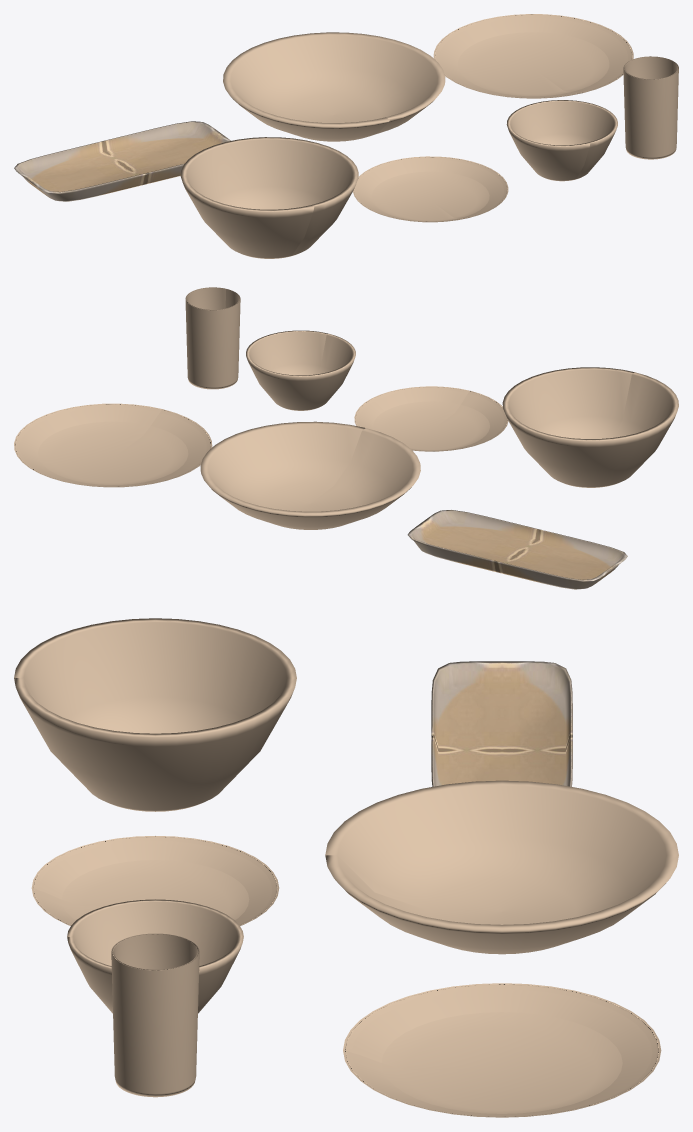
Rendered from COL-03.glb.
3 views of the same model, one above another, from view 1: azimuth 30°, elevation 25°; view 2: azimuth 150°, elevation 25°; view 3: azimuth 270°, elevation 25° (orthographic). The views are drawn at different scales.
Bounding box in the file's own units: 0.92 × 0.12 × 0.564.
7 materials, 1 textured.
